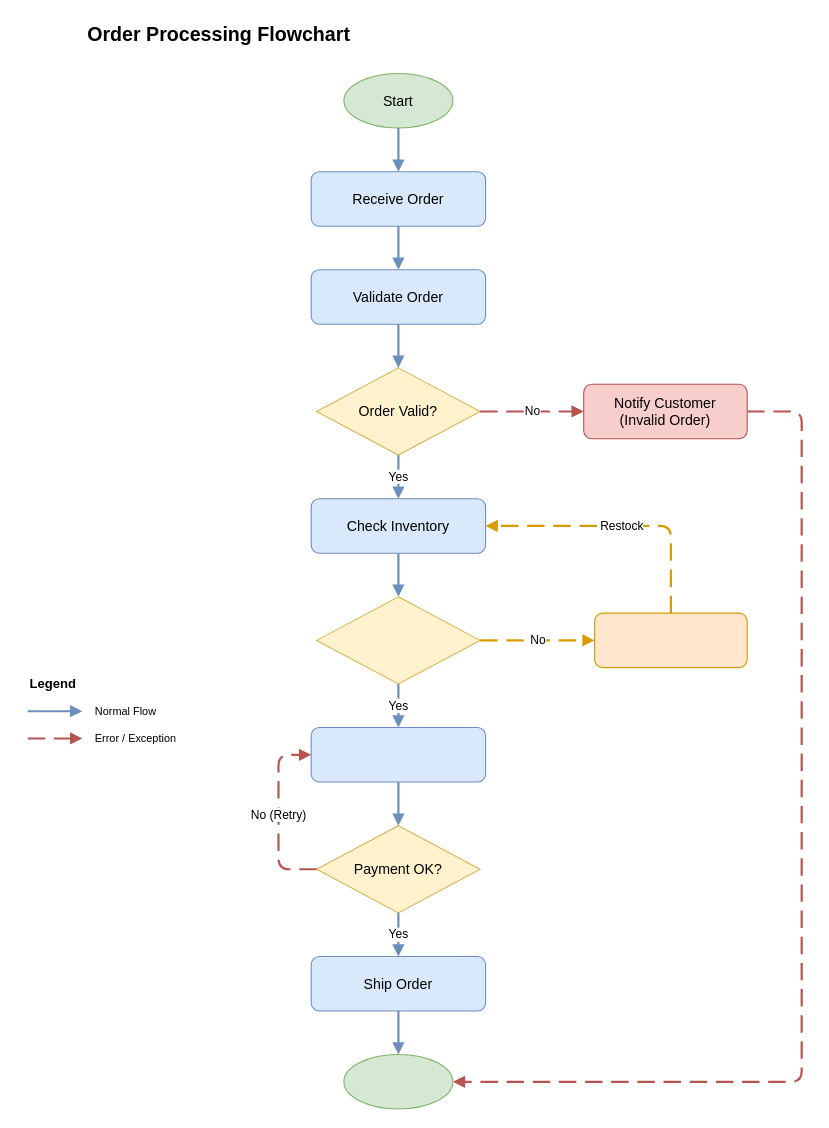
This 829x1128 diagram has some shape labels left out. The centre of each missing label's shape, as x and y in pixels:
"Create Backorder" goes at (670,640).
"End" goes at (398,1081).
"In Stock?" goes at (398,640).
"Process Payment" goes at (398,754).
